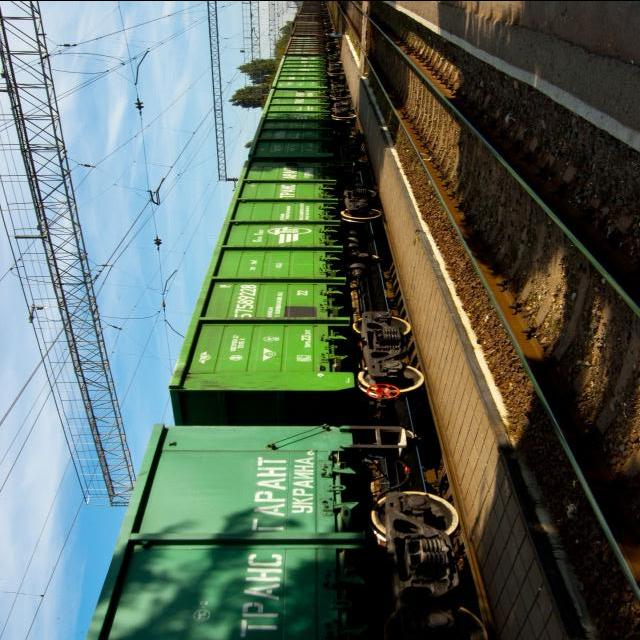wagon: (230, 281, 261, 319)
